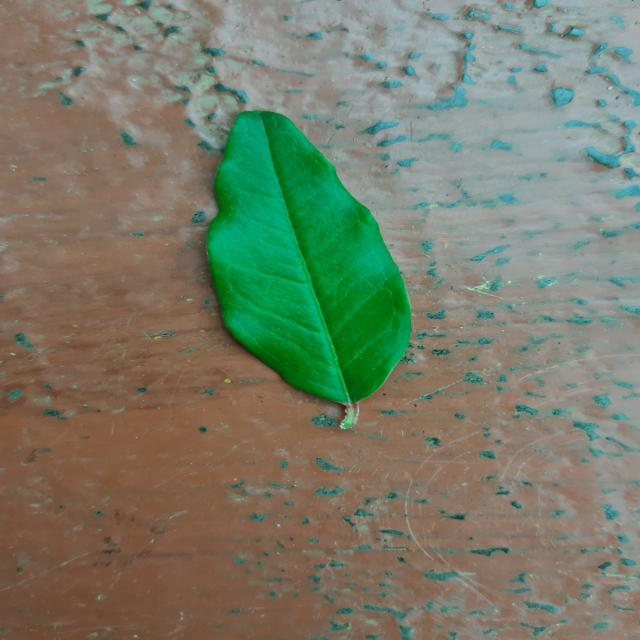pumpkin: (207, 111, 411, 428)
